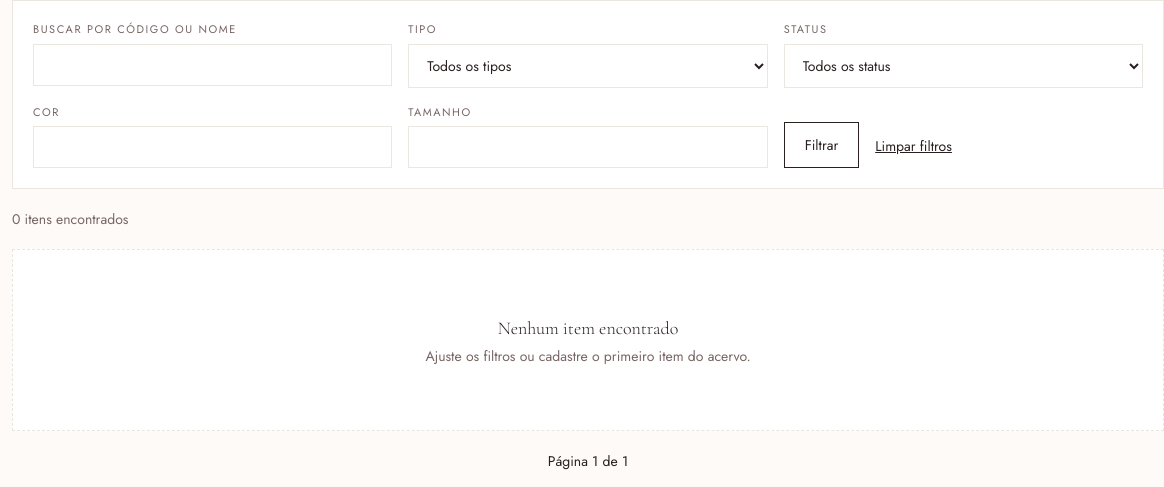
admin inventory catalog › clears edited filters even when the clear link already targets the current URL
In the field labelled "Buscar por código ou nome": (213, 64) [33,44,392,86], type "vestido"
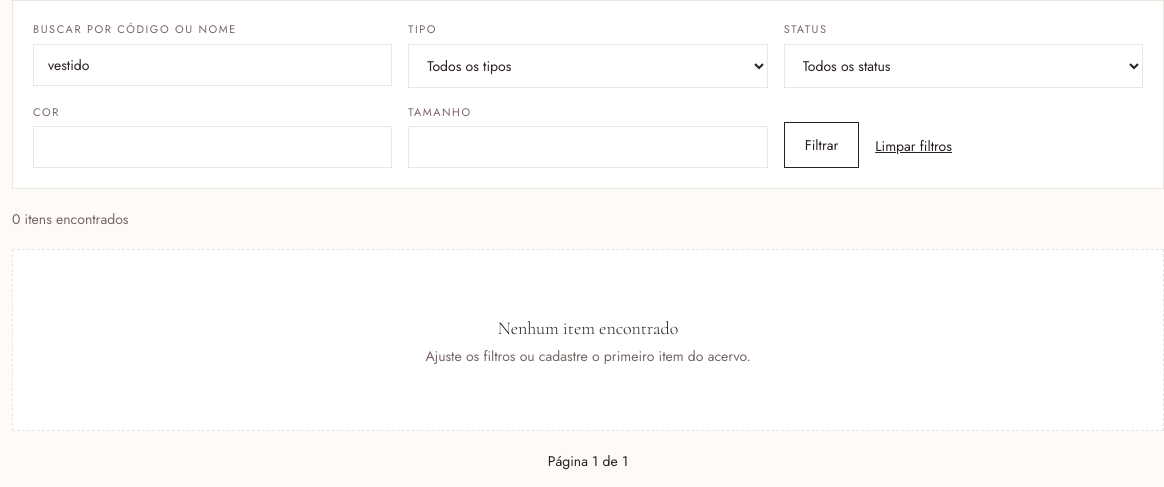
Select "Roupa" in the dropdown labelled "Tipo": (588, 66) [408,44,768,88]
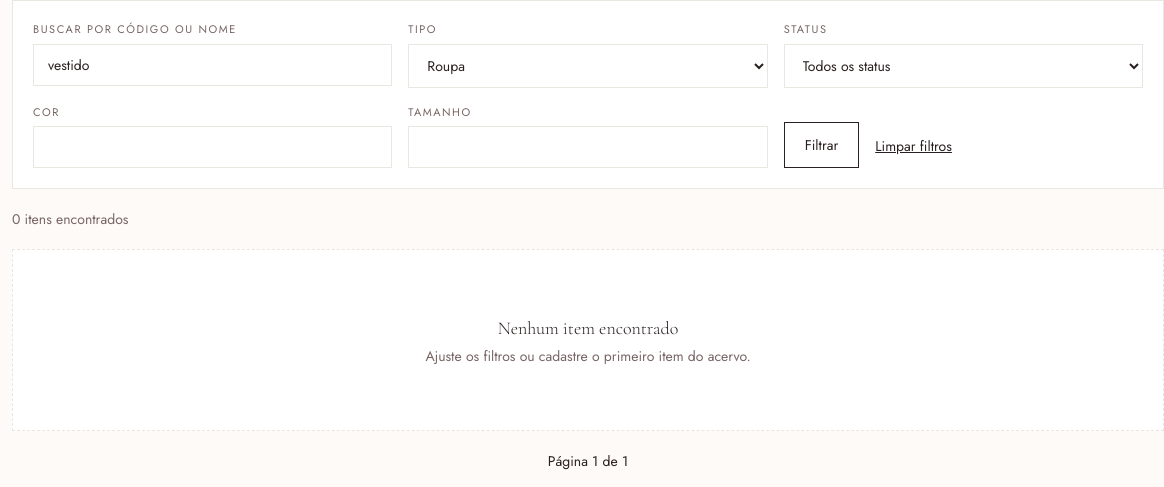
Select "Manutenção" in the dropdown labelled "Status": (963, 66) [784,44,1143,88]
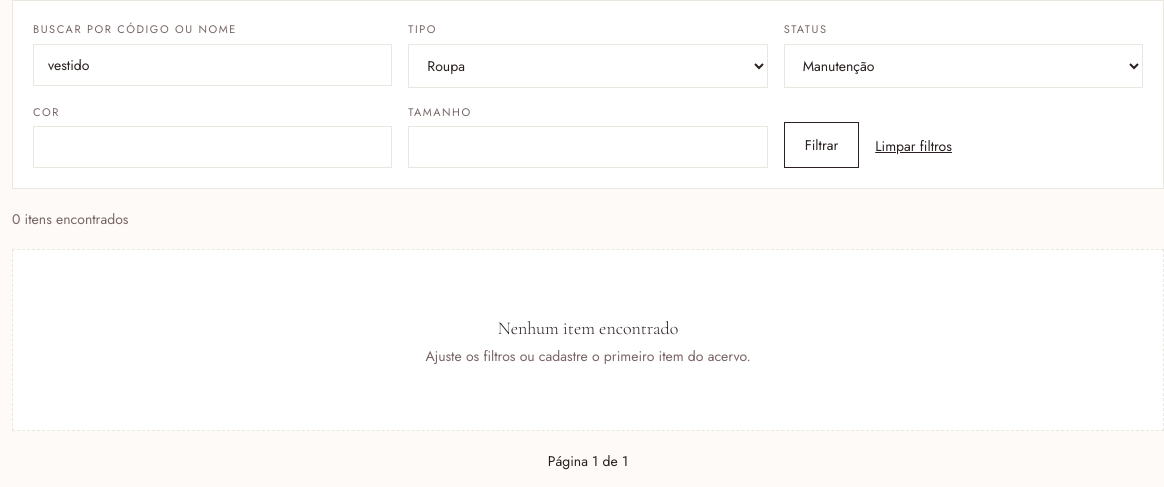
In the field labelled "Cor": (213, 147) [33,126,392,168], type "azul"
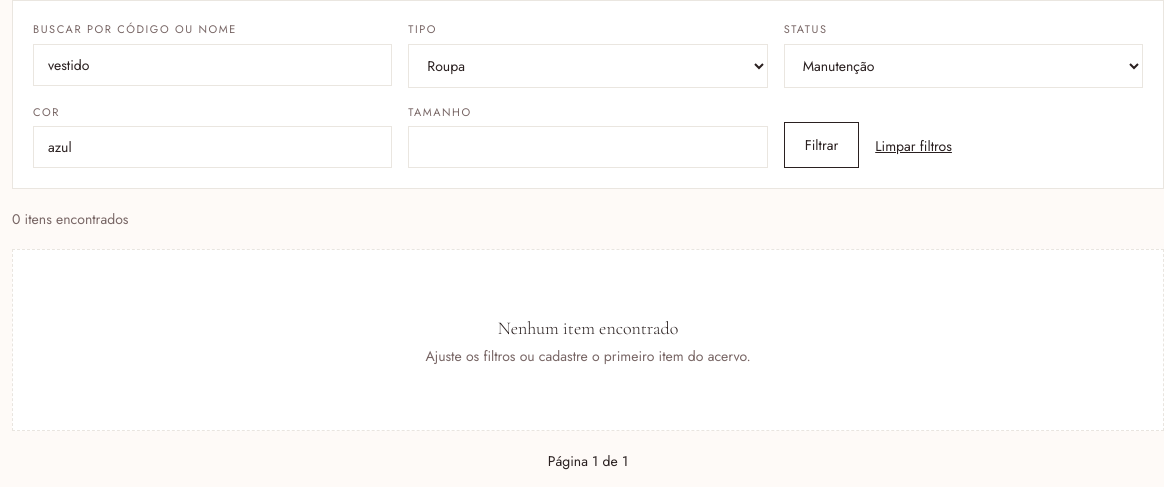
In the field labelled "Tamanho": (588, 147) [408,126,768,168], type "M"
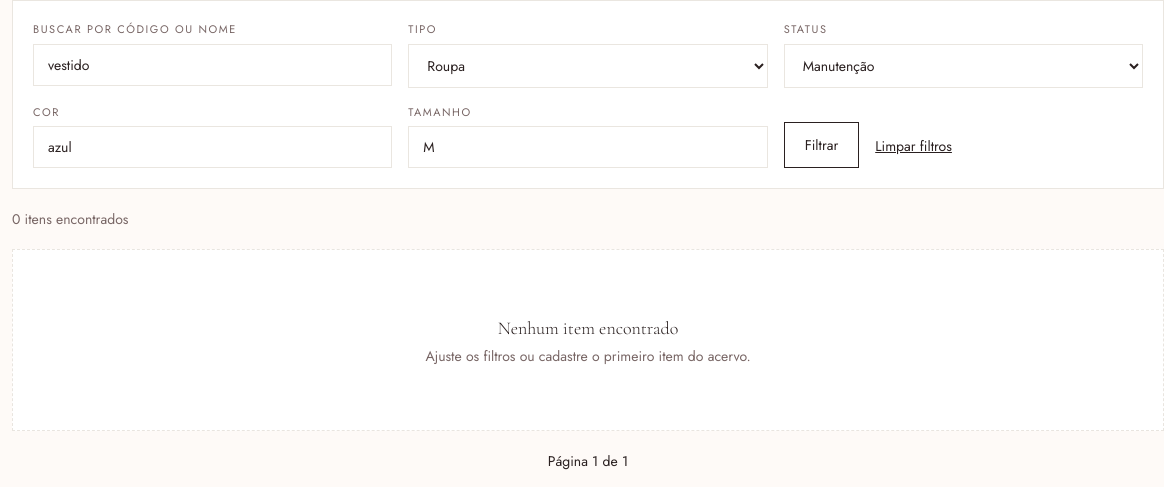
Click the link "Limpar filtros": (914, 146) [875,136,952,156]
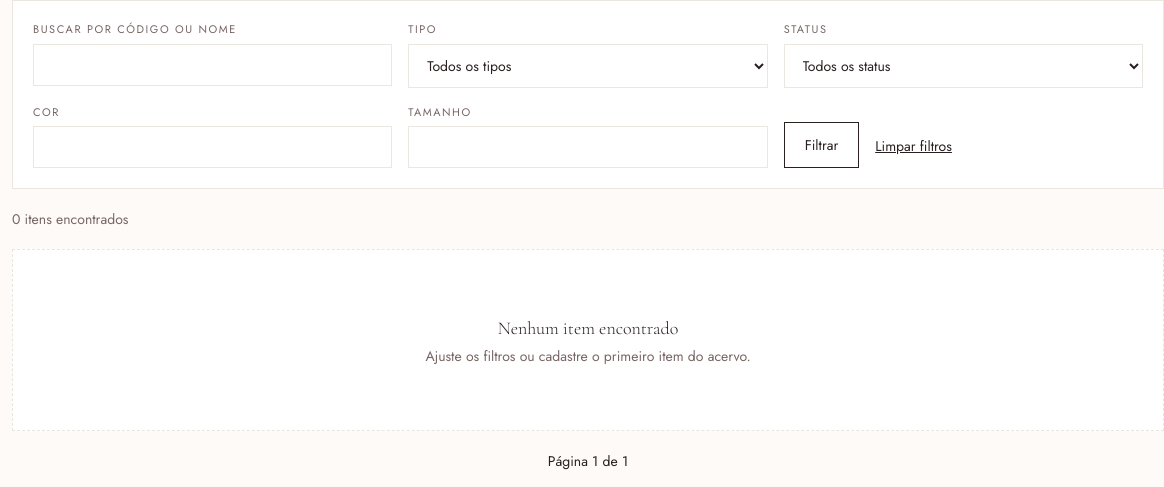
Check: the field labelled "Buscar por código ou nome" is empty, box [33,44,392,86]
Check: the field labelled "Cor" is empty, box [33,126,392,168]
Check: the field labelled "Tamanho" is empty, box [408,126,768,168]
